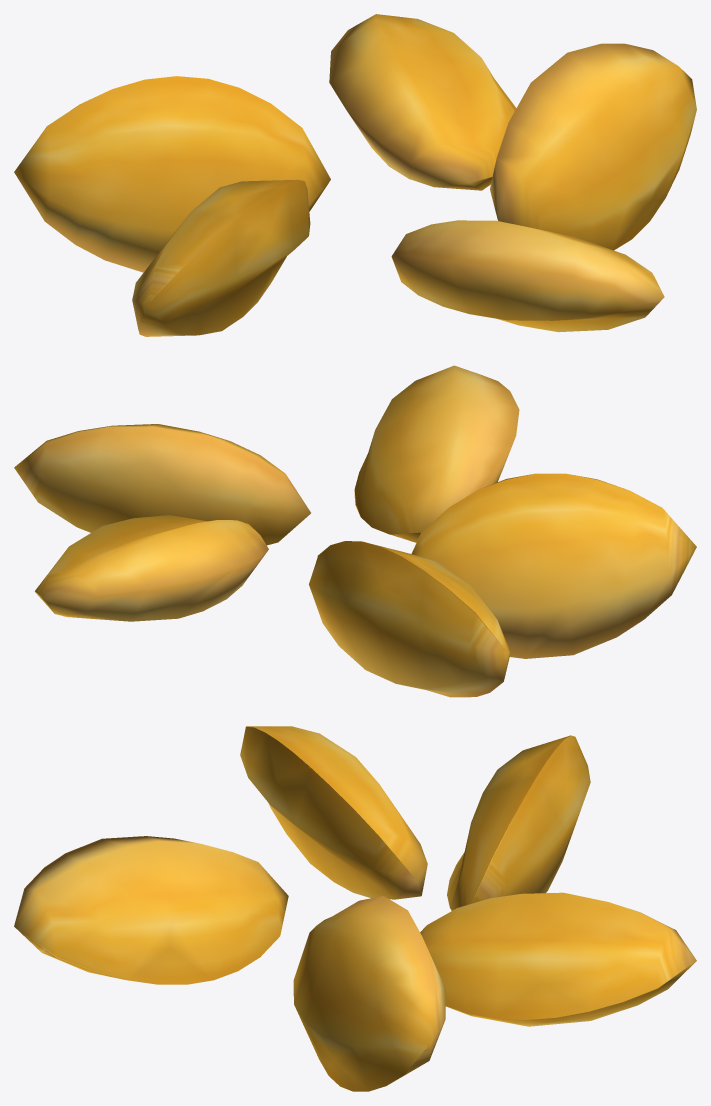
File: NP_Wheat_Seed_LOD1.fbx
The picture shows the model from 3 angles, top to bottom: view 1: azimuth 30°, elevation 25°; view 2: azimuth 150°, elevation 25°; view 3: azimuth 270°, elevation 25°; orthographic projection. The views are drawn at different scales.
Visible parts, largest first — view 1: NP_Wheat_Seed; view 2: NP_Wheat_Seed; view 3: NP_Wheat_Seed.
Boxes of the visible parts, <box> form: NP_Wheat_Seed: <box>14,14,696,336</box>; NP_Wheat_Seed: <box>14,365,696,697</box>; NP_Wheat_Seed: <box>14,726,696,1091</box>.
Bounding box in the file's own units: 17.08 × 4.38 × 16.38.
